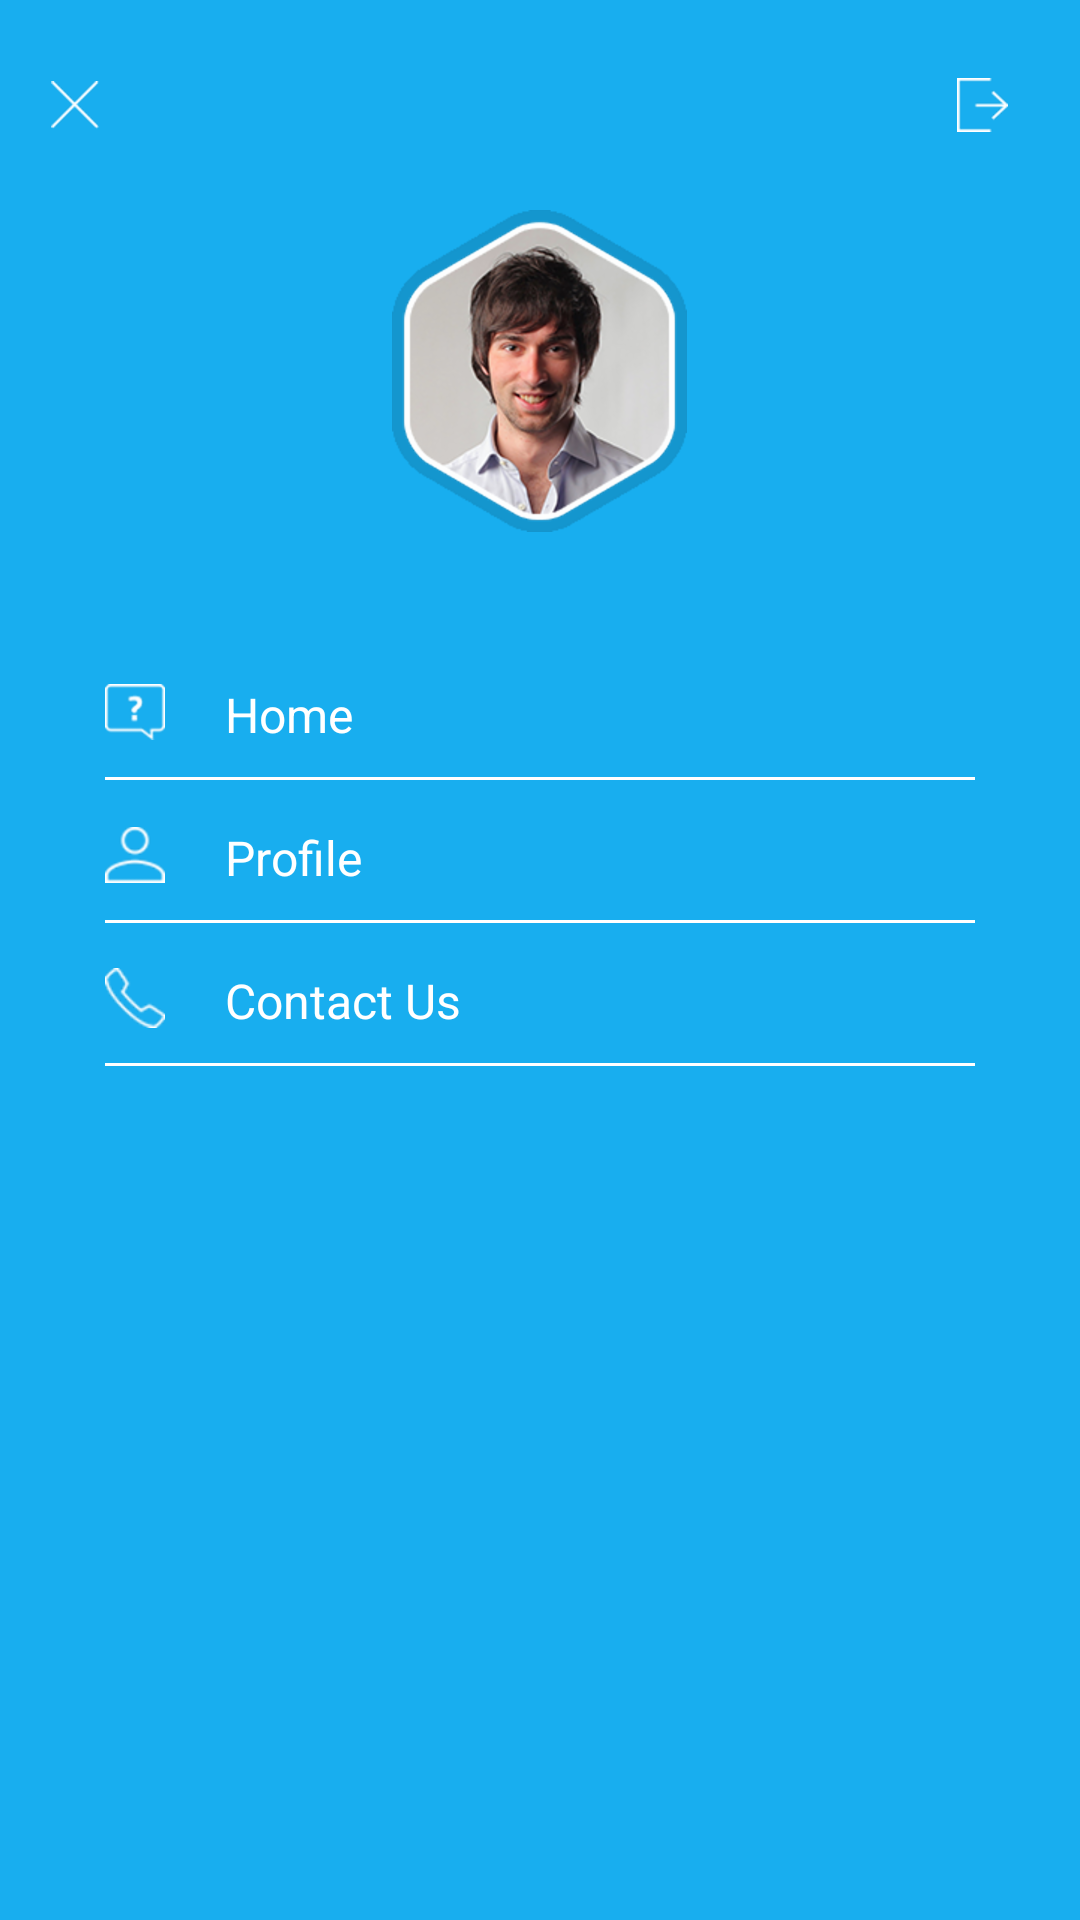

Icon click points for this 1080px×1920px phone screenshot, format [x,y]:
drawer about: [135,712]
drawer close: [75,105]
drawer contact: [135,998]
pics: [539,371]
